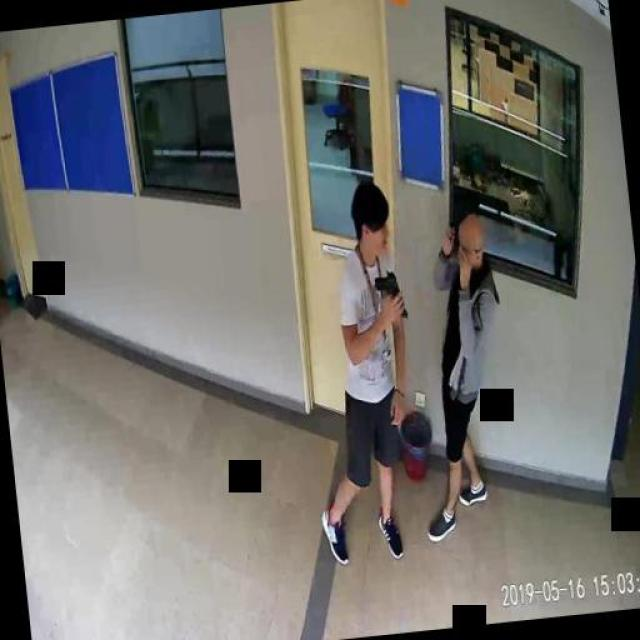gun: (372, 269, 407, 319)
